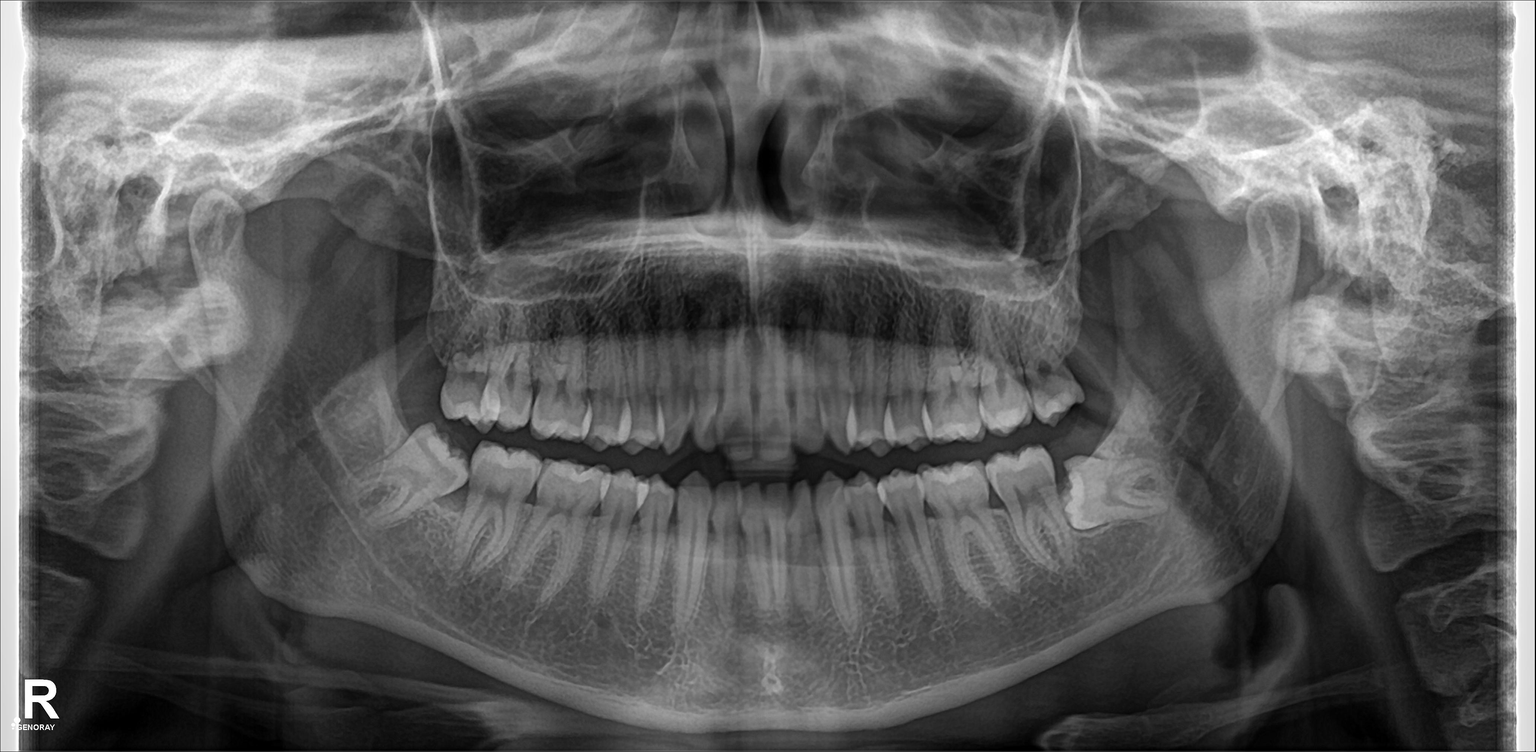Impacted Third Molar: (387, 428, 472, 520), (1069, 460, 1180, 530)
Missing Tooth: (408, 290, 445, 413)
